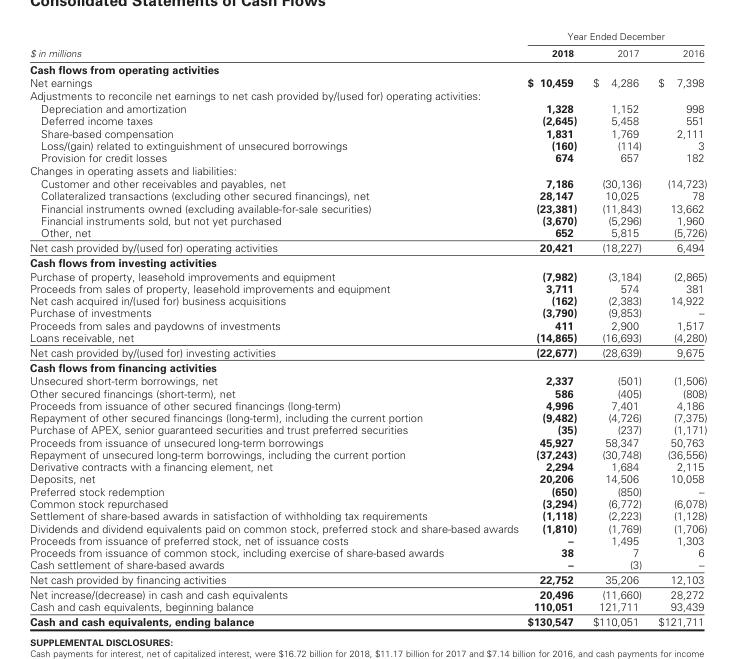table: (29, 29, 706, 627)
table column: (29, 29, 522, 627), (584, 29, 649, 627), (522, 29, 584, 627), (649, 29, 706, 627)
table column header: (29, 29, 706, 60)
table projected row header: (29, 60, 706, 75), (29, 254, 706, 268), (29, 359, 706, 373), (29, 88, 706, 101), (29, 163, 706, 176)
table row: (29, 43, 706, 60), (29, 60, 706, 75), (29, 239, 706, 254), (29, 344, 706, 359), (29, 571, 706, 586), (29, 29, 706, 43), (29, 254, 706, 268), (29, 330, 706, 344), (29, 359, 706, 373), (29, 586, 706, 600), (29, 613, 706, 627), (29, 75, 706, 88), (29, 88, 706, 101), (29, 101, 706, 114), (29, 126, 706, 139), (29, 163, 706, 176), (29, 176, 706, 189), (29, 213, 706, 226), (29, 226, 706, 239), (29, 268, 706, 281), (29, 281, 706, 294), (29, 373, 706, 386), (29, 398, 706, 411), (29, 447, 706, 460), (29, 496, 706, 509), (29, 533, 706, 546), (29, 558, 706, 571), (29, 600, 706, 613), (29, 114, 706, 126), (29, 139, 706, 151), (29, 151, 706, 163), (29, 189, 706, 201), (29, 201, 706, 213), (29, 294, 706, 306), (29, 306, 706, 318), (29, 318, 706, 330), (29, 386, 706, 398), (29, 411, 706, 423), (29, 423, 706, 435), (29, 435, 706, 447), (29, 460, 706, 472), (29, 472, 706, 484), (29, 484, 706, 496), (29, 509, 706, 521), (29, 521, 706, 533), (29, 546, 706, 558)
table spanning cell: (29, 29, 522, 60), (522, 29, 706, 43)
